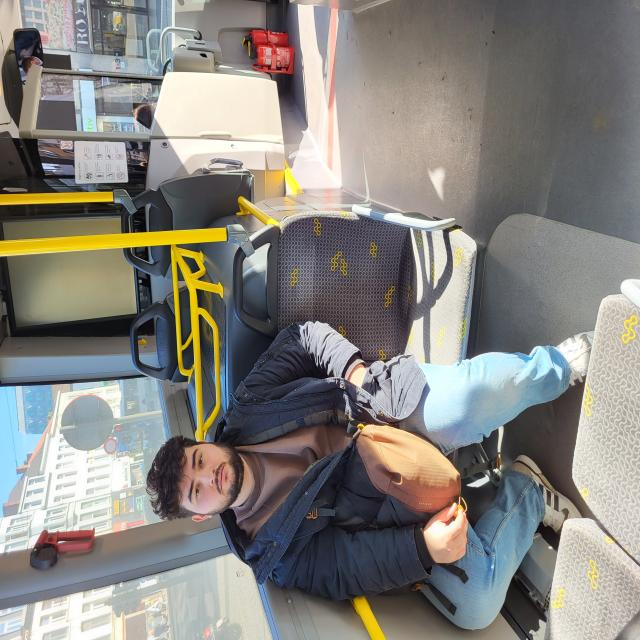asiento-libre: (202, 310, 325, 638), (207, 310, 326, 637), (270, 161, 352, 338), (193, 173, 265, 260), (193, 173, 261, 250)
